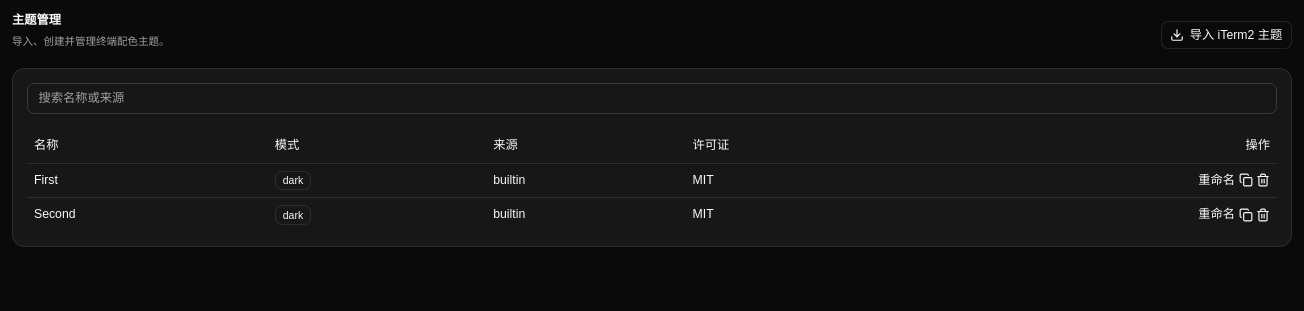
Test: ThemeManager concurrent actions › surfaces a failed row action while another row remains active
Click the button named "复制 First" at (1246,180), box x1=1238 y1=172 x2=1252 y2=189
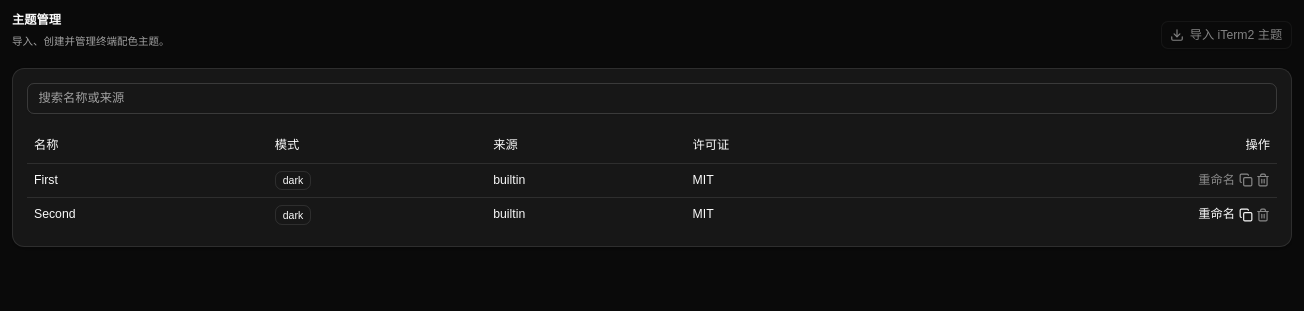
Click the button named "复制 Second" at (1246,215), box x1=1238 y1=206 x2=1252 y2=224
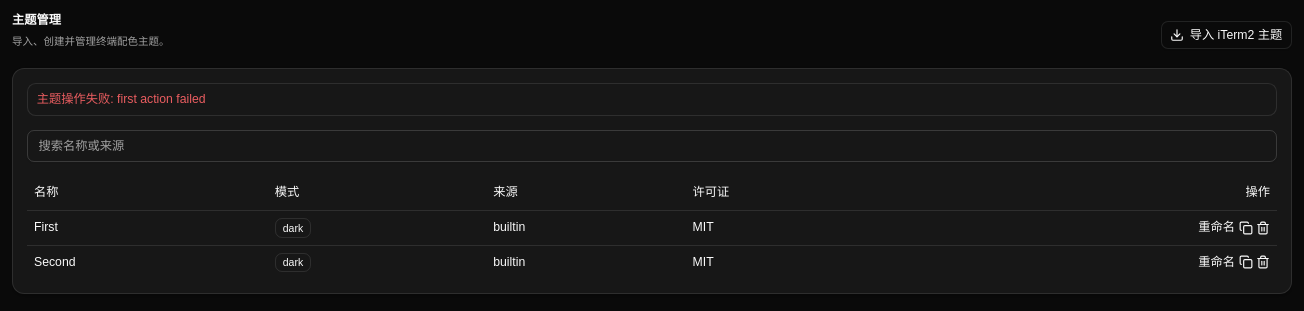
Result: the message reads "主题操作失败: first action failed" at x1=37 y1=92 x2=206 y2=106
